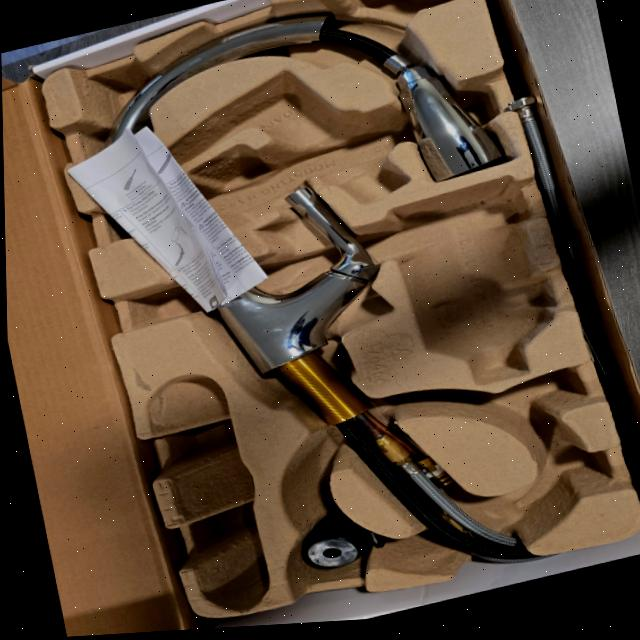1o: (97, 11, 531, 564)
2m: (165, 71, 408, 203)
3m: (387, 174, 555, 386)
4: (146, 375, 267, 610)
5: (297, 515, 383, 568)
6m: (505, 442, 609, 522)
7m: (438, 366, 585, 441)
8: (62, 122, 266, 313)
